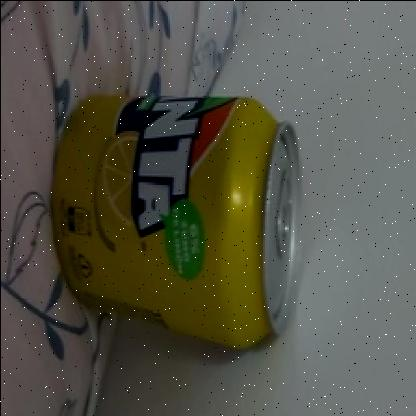Can: (46, 89, 306, 351)
